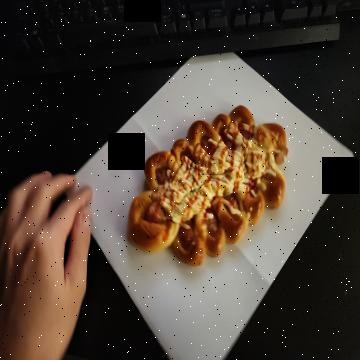pizza_bread: (128, 106, 288, 266)
